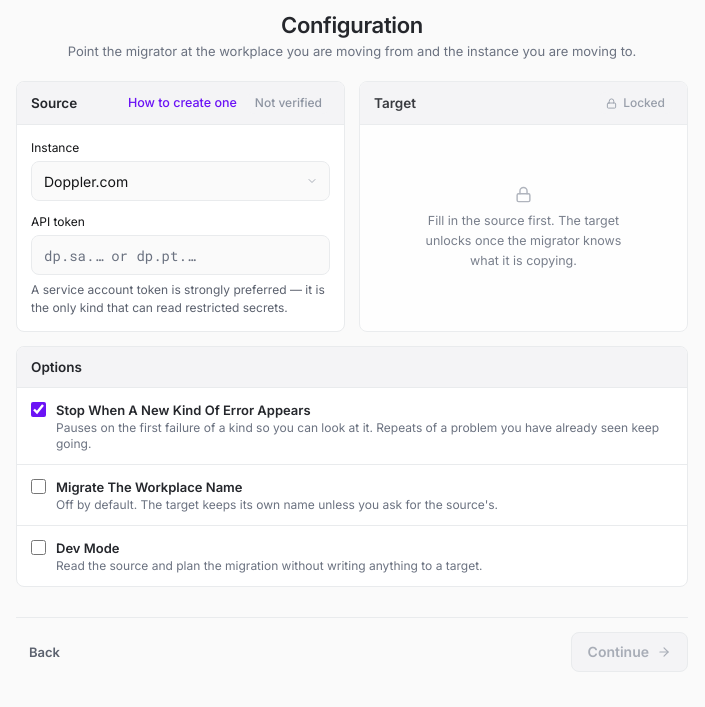
Test case: ConfigurationPage › rejects a host that is not a URL
Select "Self-hosted" in the dropdown labelled "Instance": (180, 181) [31,161,330,201]
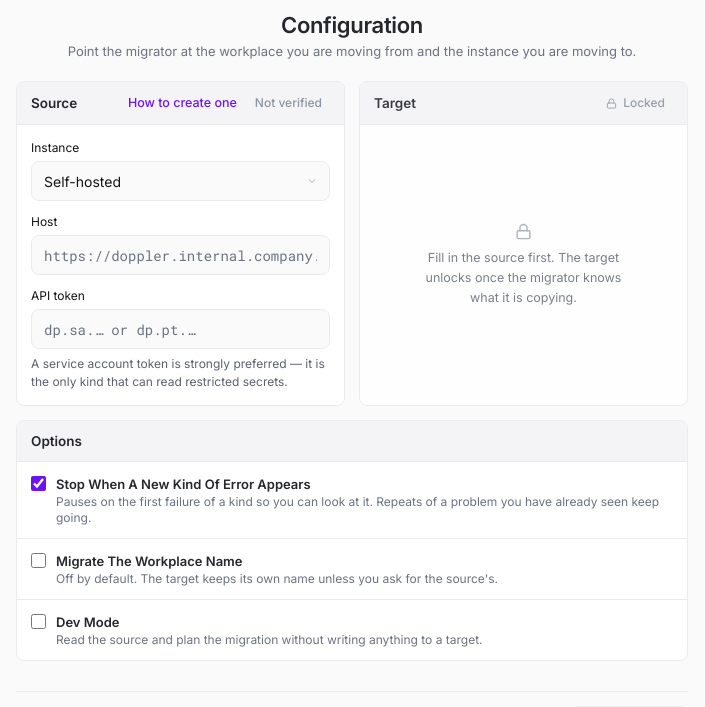
In the field labelled "Host": (180, 255) [31,235,330,275], type "not a url"
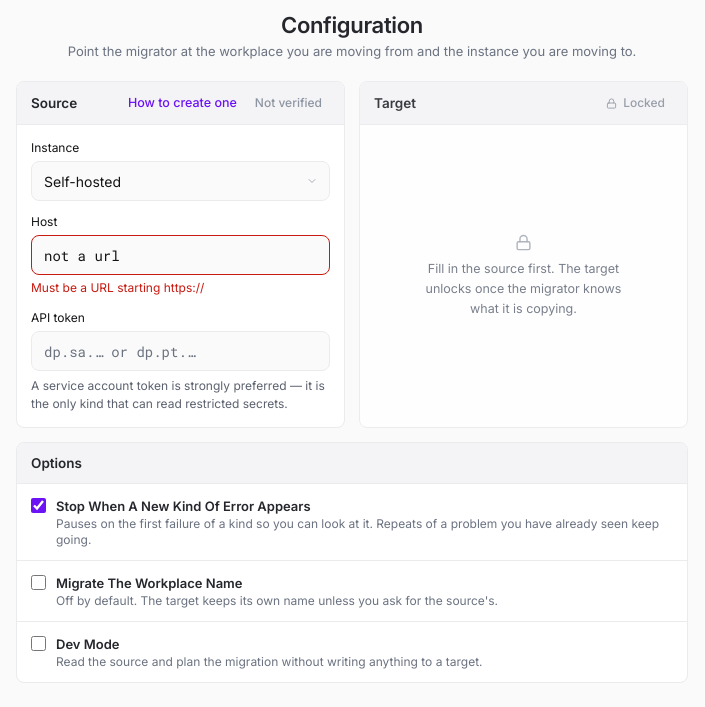
Now the text "Must be a URL starting https://" is shown, box [31,280,204,295]
